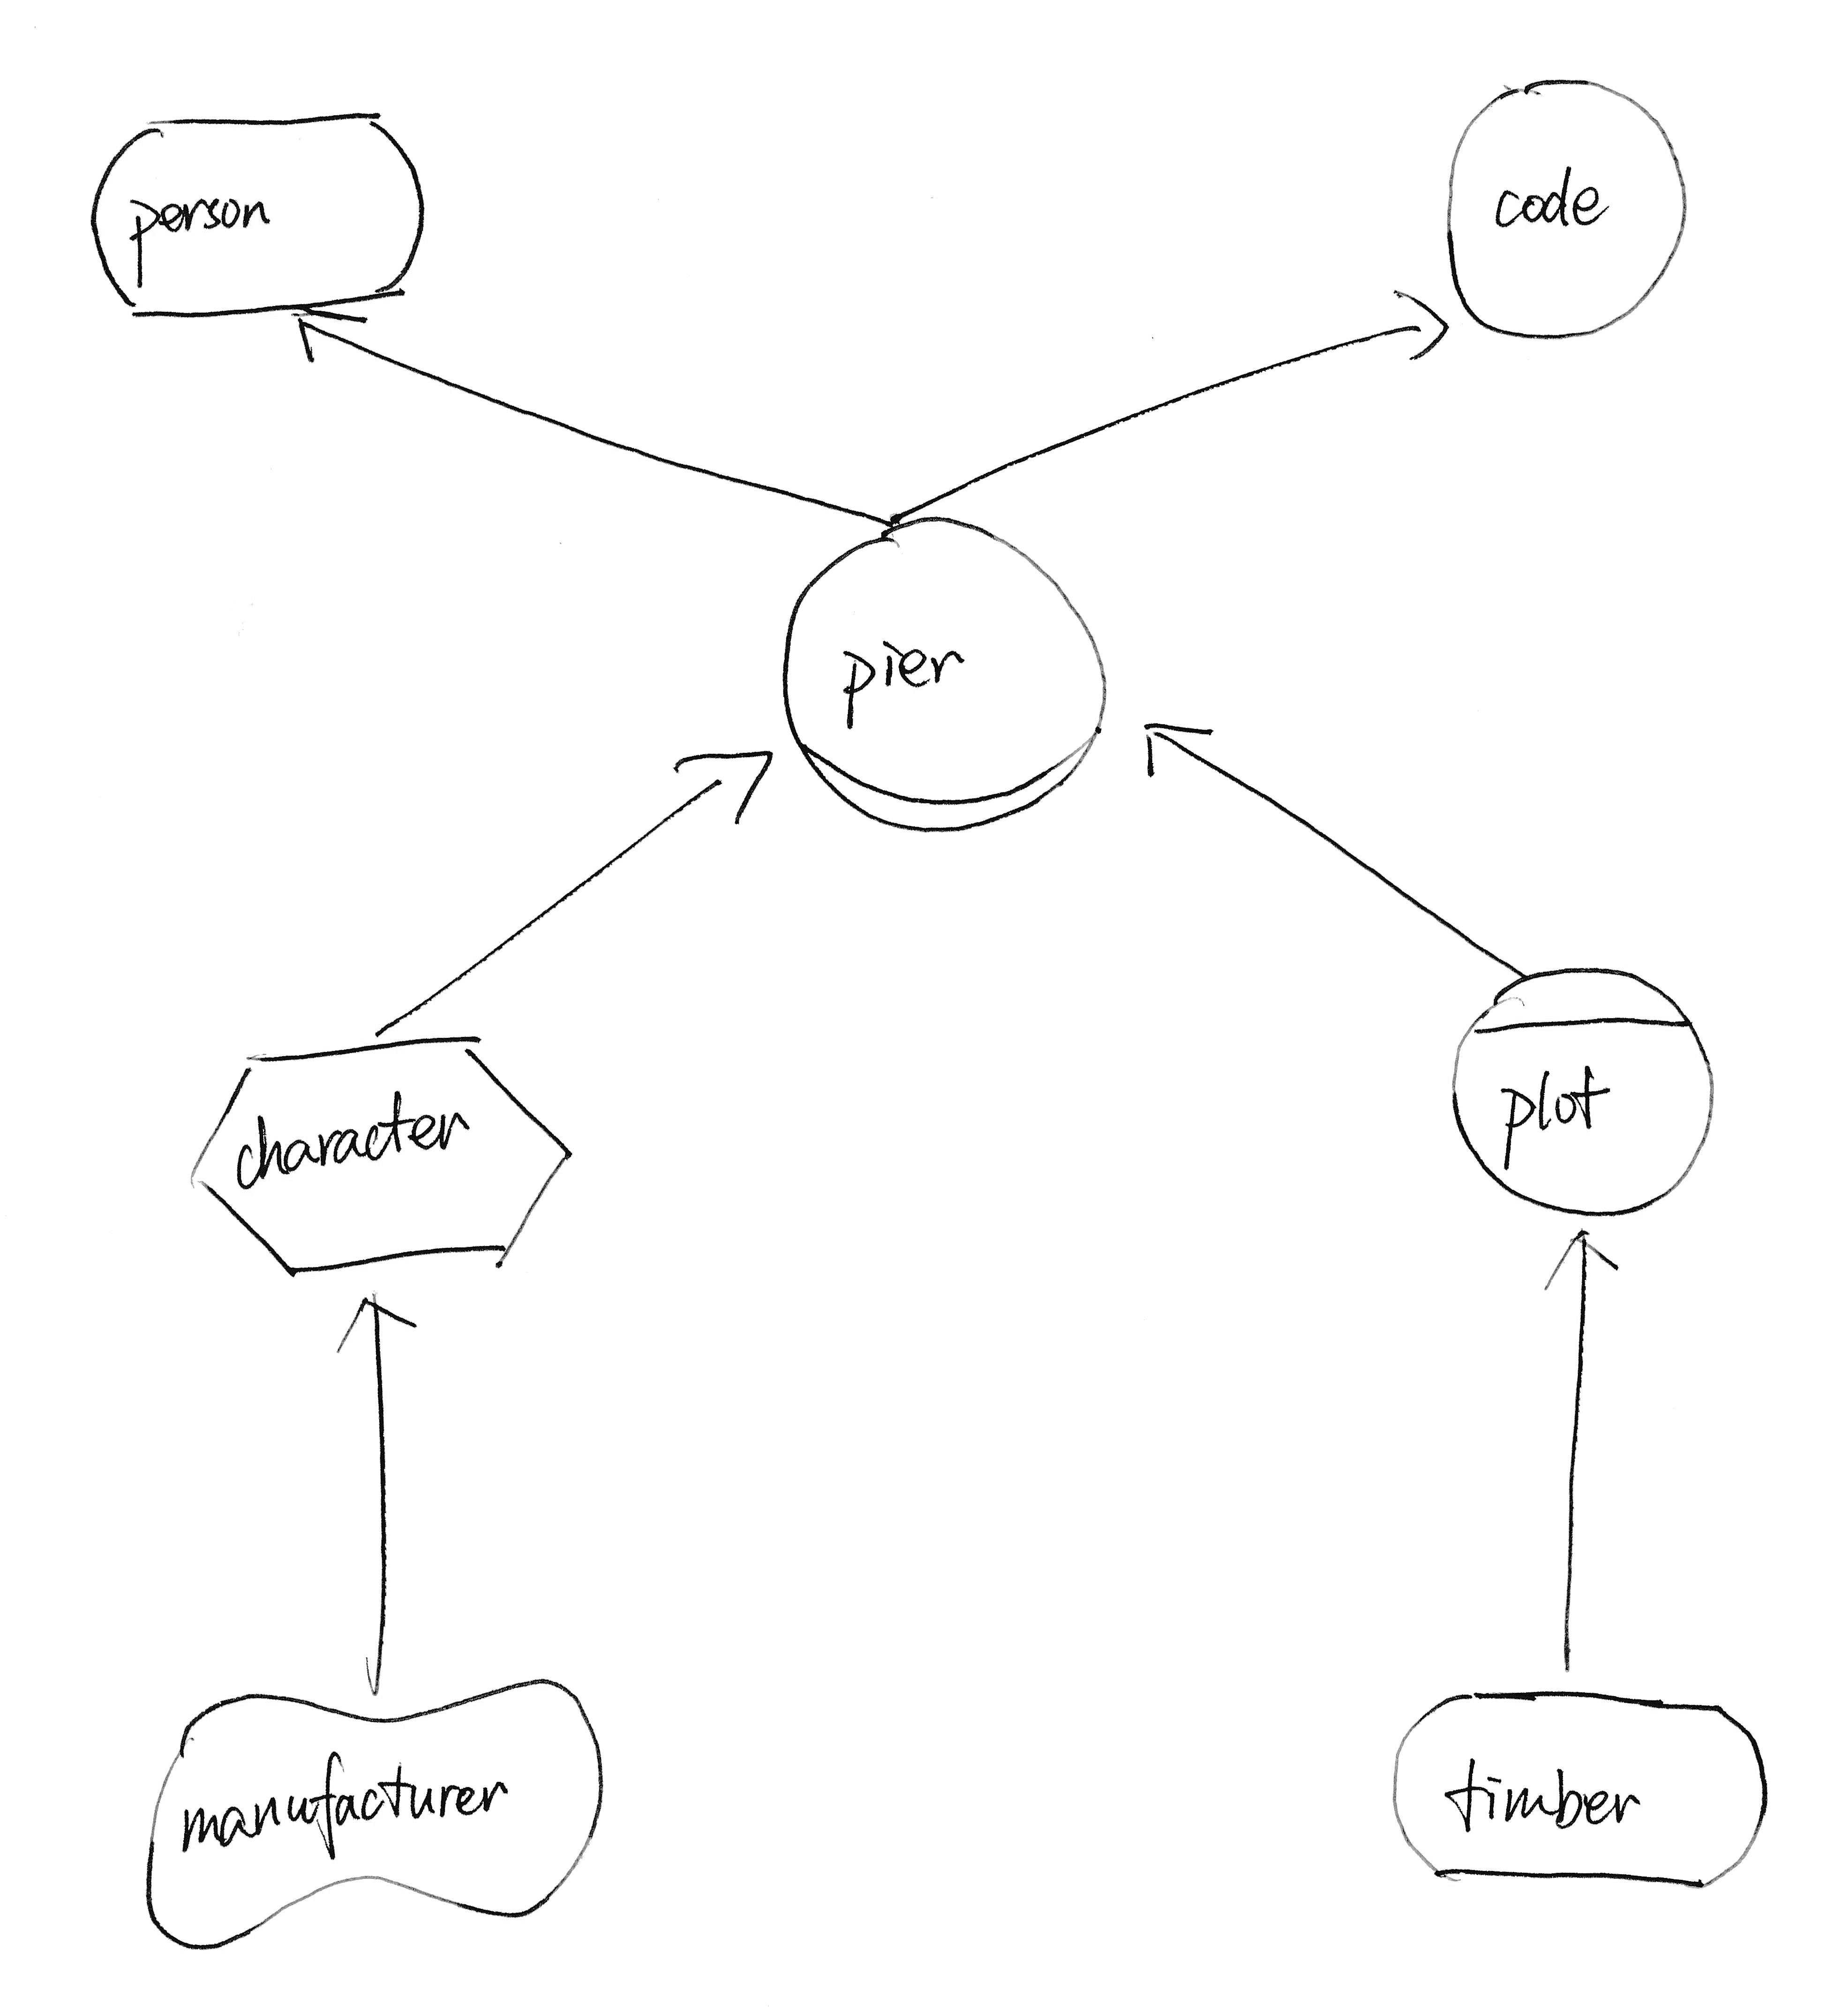actor: (1425, 60, 1702, 354)
agent: (1439, 954, 1729, 1235)
arrow: (656, 723, 779, 847), (1371, 274, 1460, 381), (1525, 1214, 1622, 1312), (1125, 707, 1223, 798), (277, 298, 379, 375), (332, 1286, 428, 1367)
goal: (1376, 1668, 1785, 1903), (72, 93, 435, 335)
quality: (130, 1663, 620, 1965)
role: (779, 500, 1118, 842)
task: (183, 1007, 584, 1293)
